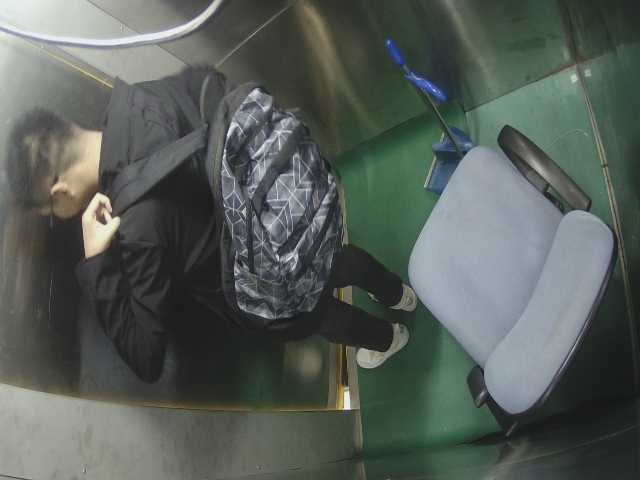bag: (202, 77, 339, 335)
broom: (370, 30, 490, 200)
chair: (403, 125, 606, 436)
person: (13, 91, 407, 373)
